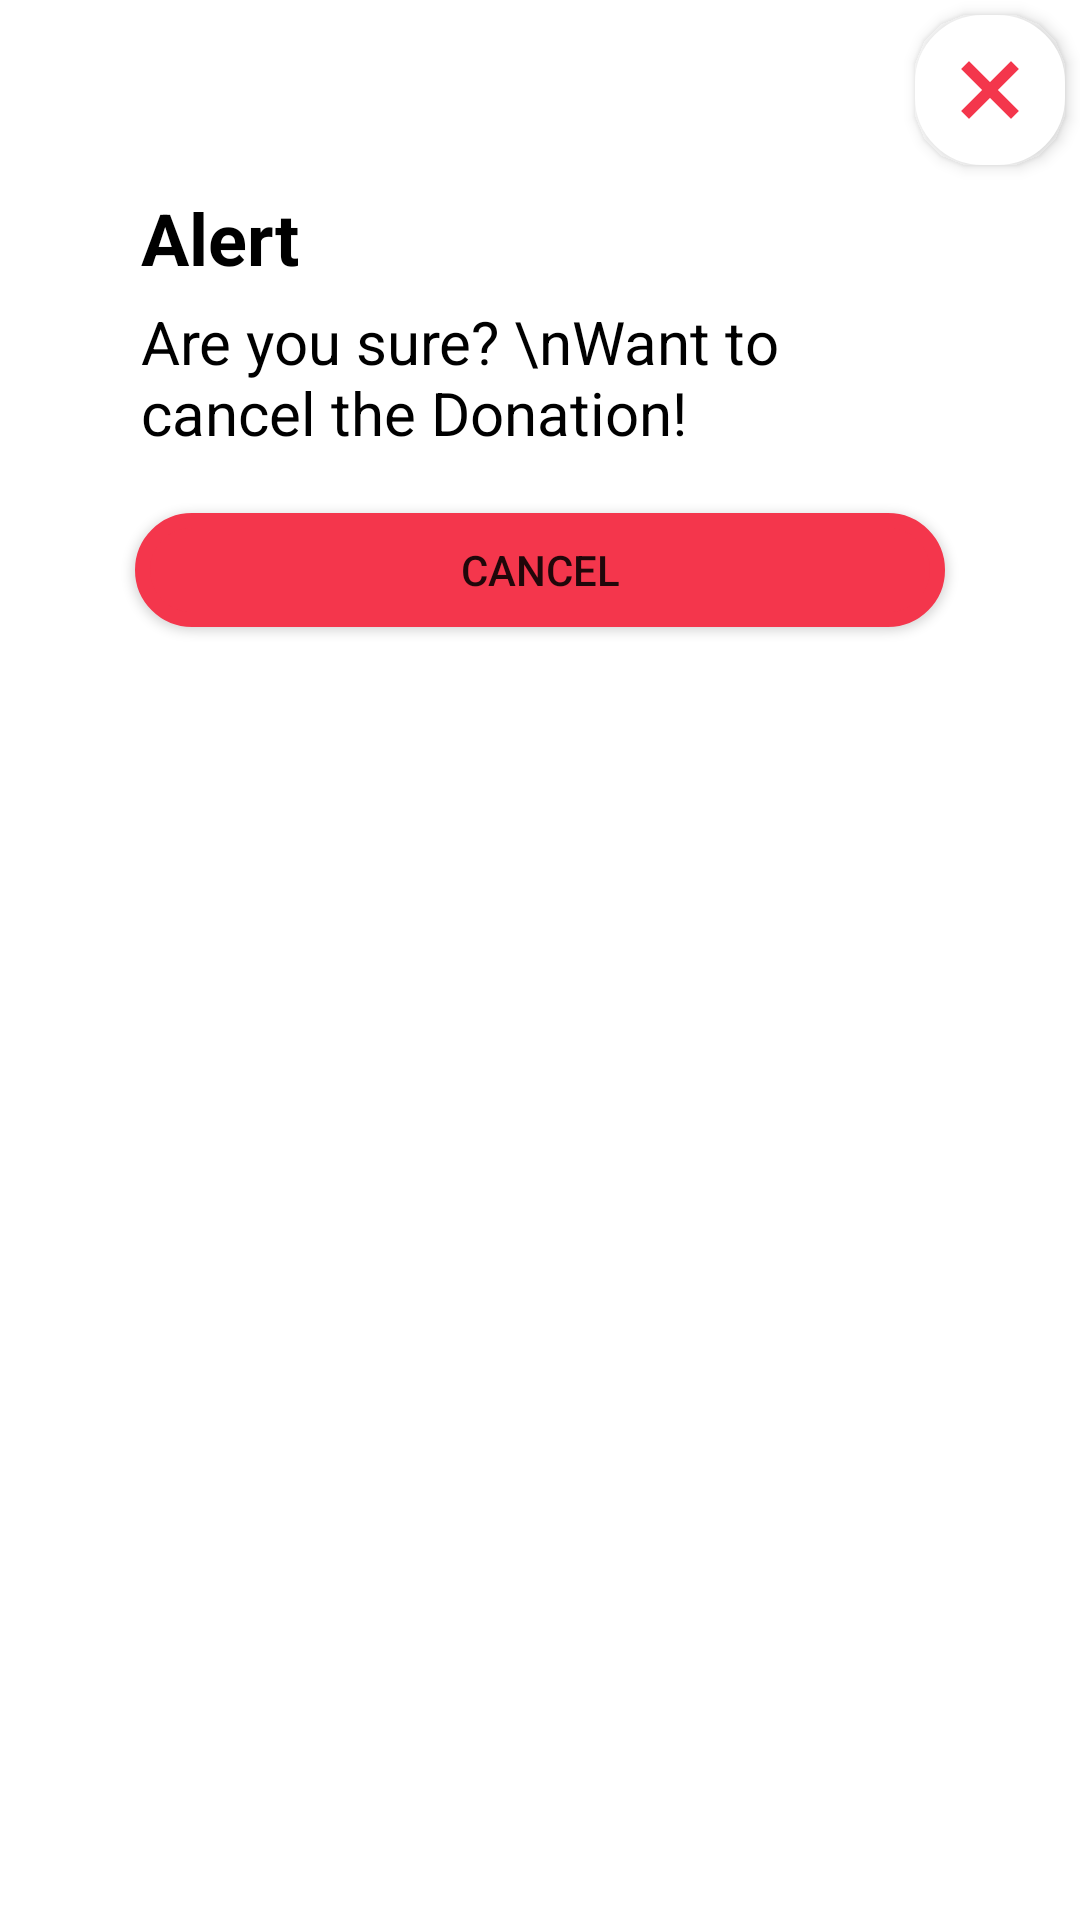

Screen size 1080px x 1920px. Icon name, then its center in pixels as (x=x, y=y):
close: (x=1006, y=90)
